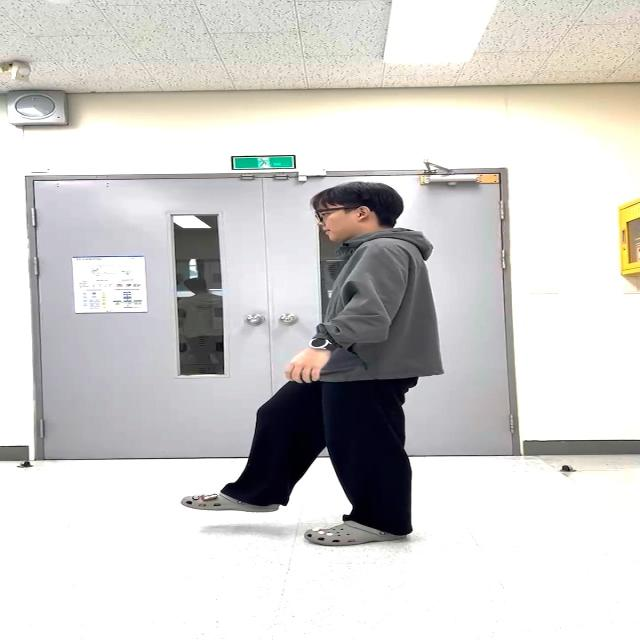leg: (180, 379, 324, 512), (304, 379, 413, 545)
